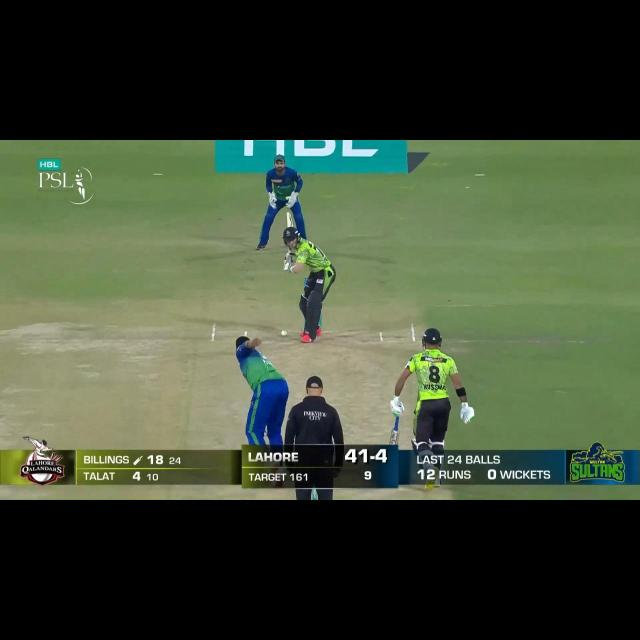bat: (389, 430, 402, 446)
toe: (282, 210, 297, 229)
